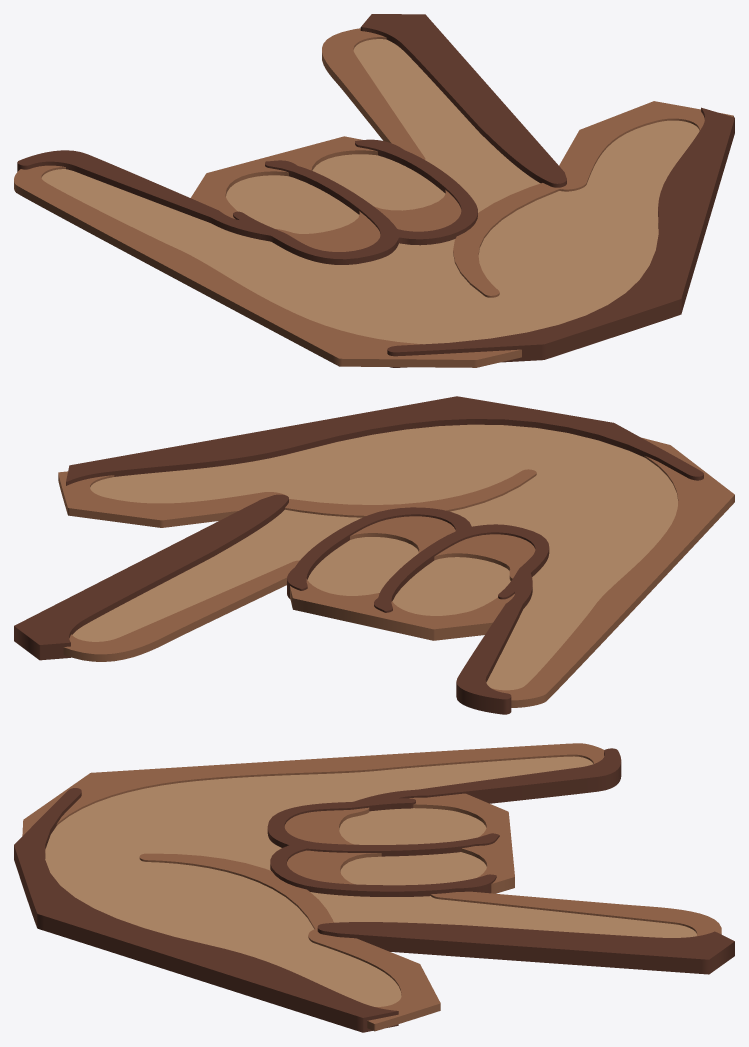
File: emoji_u1f91f_1f3fd.glb
The picture shows the model from 3 angles, top to bottom: view 1: azimuth 30°, elevation 25°; view 2: azimuth 150°, elevation 25°; view 3: azimuth 270°, elevation 25°; orthographic projection. The views are drawn at different scales.
Parts seen in each view (by area): view 1: emoji_u1f91f_1f3fd; view 2: emoji_u1f91f_1f3fd; view 3: emoji_u1f91f_1f3fd.
Boxes of the visible parts, x1=… form: emoji_u1f91f_1f3fd: x1=14, y1=14, x2=734, y2=367; emoji_u1f91f_1f3fd: x1=14, y1=396, x2=734, y2=714; emoji_u1f91f_1f3fd: x1=14, y1=743, x2=734, y2=1032.
Bounding box in the file's own units: 0.0326 × 0.0008 × 0.0353.
